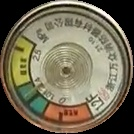green: (17, 82, 51, 117)
needle: (23, 80, 48, 99)
red: (43, 100, 94, 125)
yellow: (10, 35, 38, 86)
